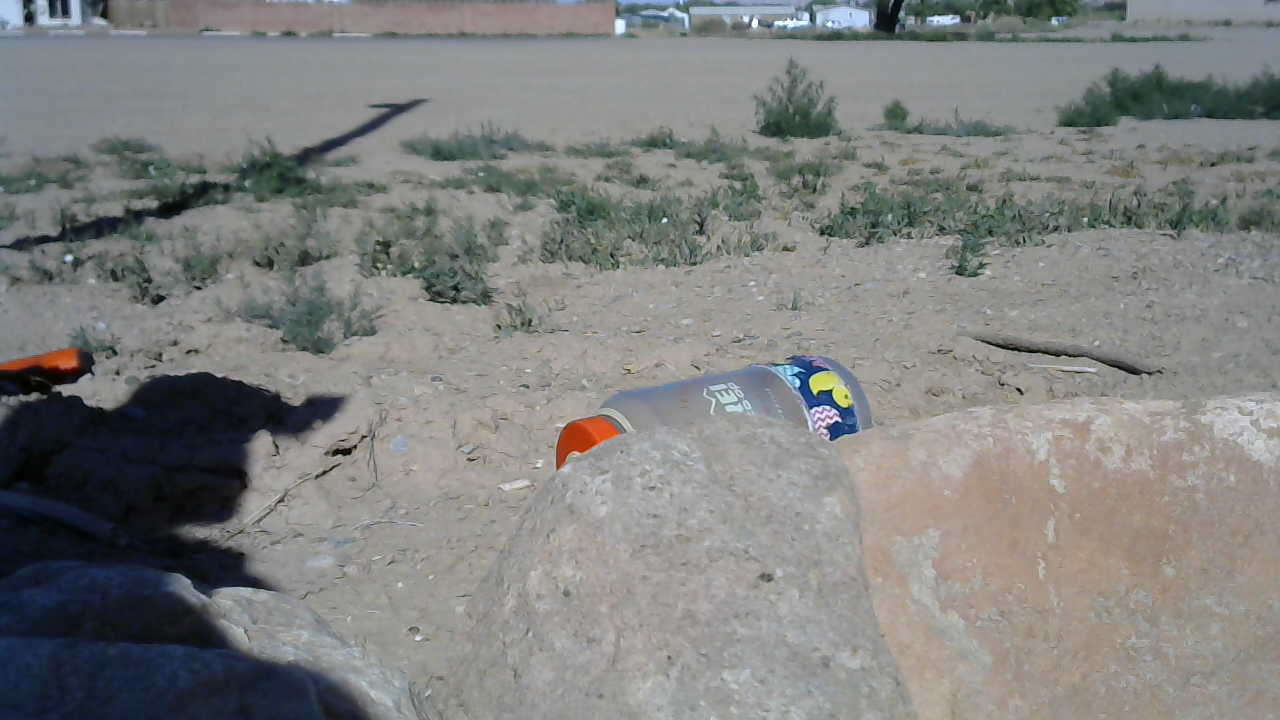bottle: (535, 351, 882, 473)
hammer: (0, 336, 95, 398)
